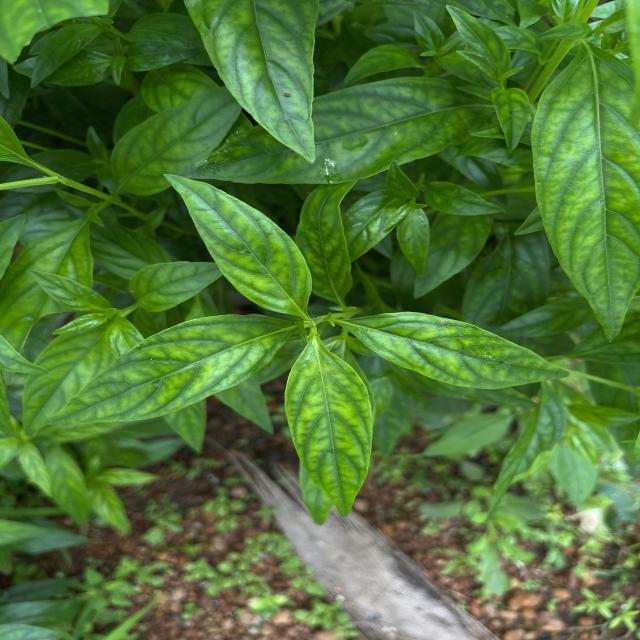Andrographis paniculata: (528, 47, 640, 343), (180, 74, 475, 186), (41, 312, 296, 430), (164, 168, 315, 320), (346, 310, 572, 390), (282, 338, 376, 518), (107, 83, 241, 198), (296, 182, 352, 309), (126, 258, 224, 314), (25, 266, 108, 312), (490, 85, 530, 154)
